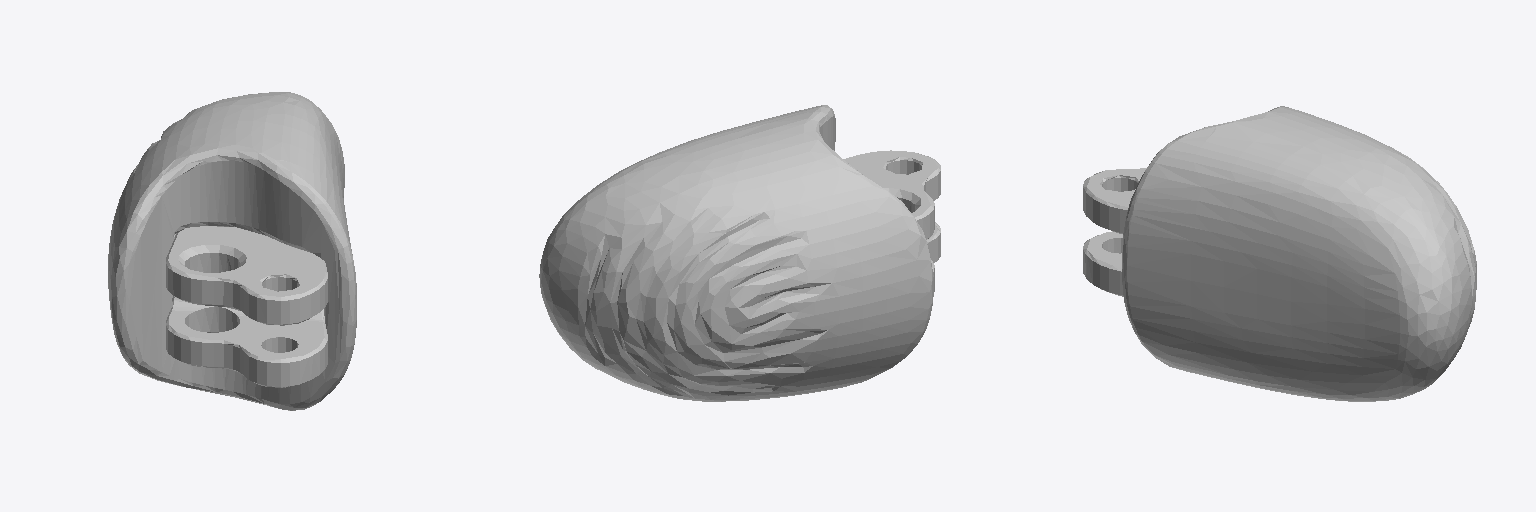
Rendered from R_thumb_distal.obj.
3 views of the same model, side by side, from view 1: azimuth 30°, elevation 25°; view 2: azimuth 150°, elevation 25°; view 3: azimuth 270°, elevation 25° (orthographic).
Visible parts, largest first — view 1: R_thumb_distal; view 2: R_thumb_distal; view 3: R_thumb_distal.
Part boxes in pixels (left/top/right/bottom): R_thumb_distal: left=108, top=92, right=356, bottom=410; R_thumb_distal: left=539, top=105, right=940, bottom=401; R_thumb_distal: left=1083, top=106, right=1476, bottom=401.
Size of the model in its own units: 0.0285 by 0.0221 by 0.0316.